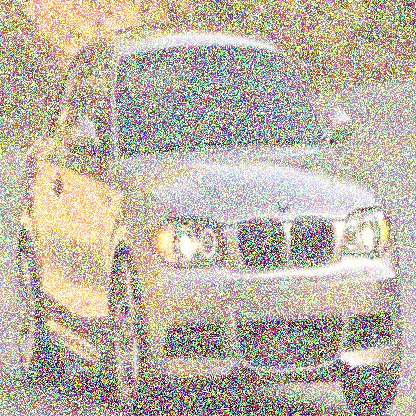Vehicle: (15, 27, 408, 414)
